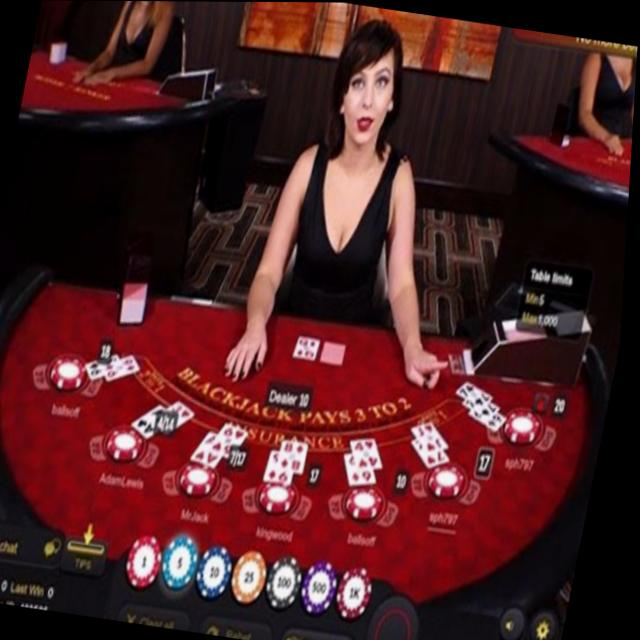Card-10: (297, 335, 324, 360)
Card-3: (173, 400, 200, 427)
Card-4: (356, 440, 388, 468)
Card-6: (218, 424, 253, 459), (350, 454, 381, 486), (473, 412, 512, 431)
Card-7: (417, 438, 455, 467), (460, 381, 498, 406), (468, 398, 505, 418)
Card-8: (283, 440, 314, 473), (90, 352, 124, 381)
Card-9: (268, 450, 299, 486)
Card-A: (196, 432, 228, 468), (138, 404, 169, 440)
Card-J: (417, 421, 454, 453)
Card-Q: (108, 354, 145, 381)
